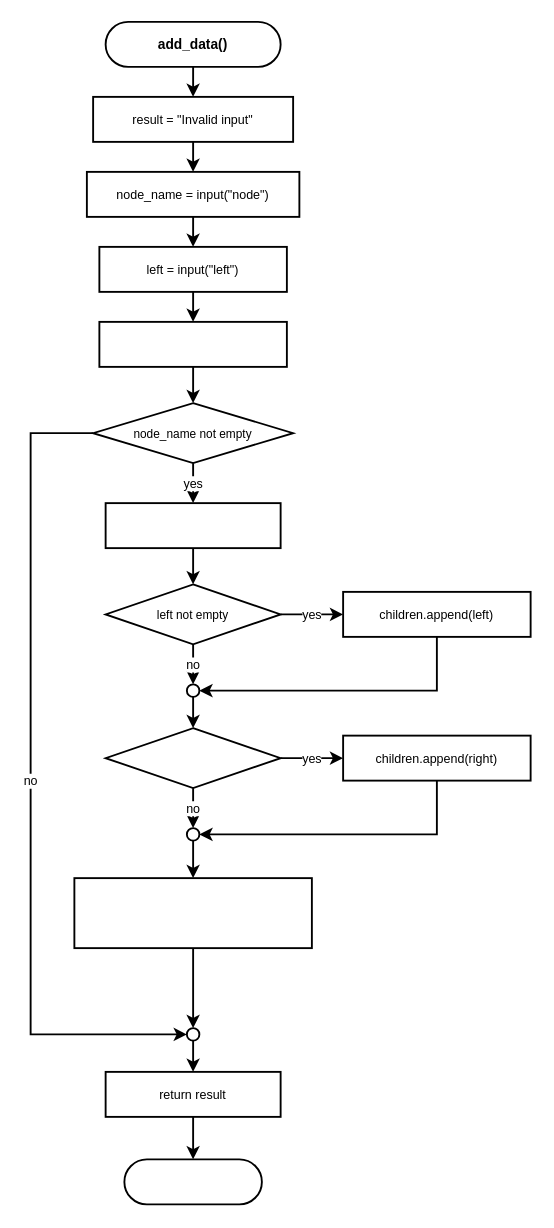
This 554x1228 diagram has some shape labels left out. Here are the shapes that lost their labels. From the top down, the centre of each, then its label:
pixel 192 343: right = input("right")
pixel 192 525: children = []
pixel 192 757: right not empty
pixel 192 912: graph[node_name] = children save_file(graph) result = "Add success"
pixel 192 1181: Return
